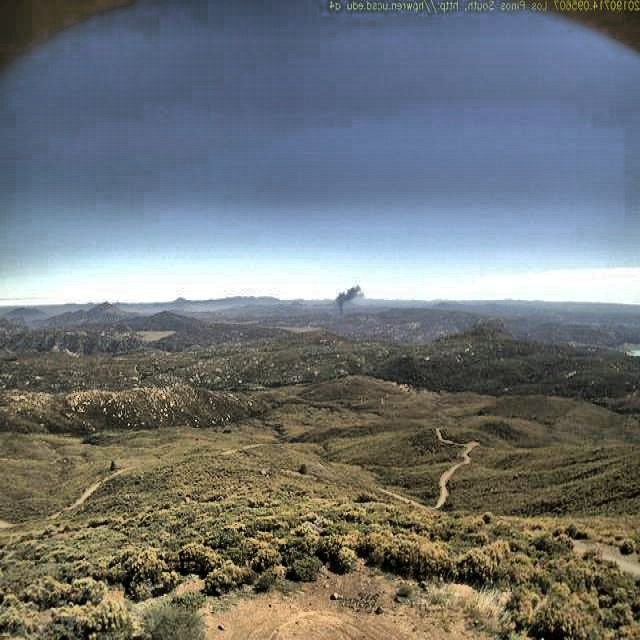smoke: (333, 280, 367, 319)
